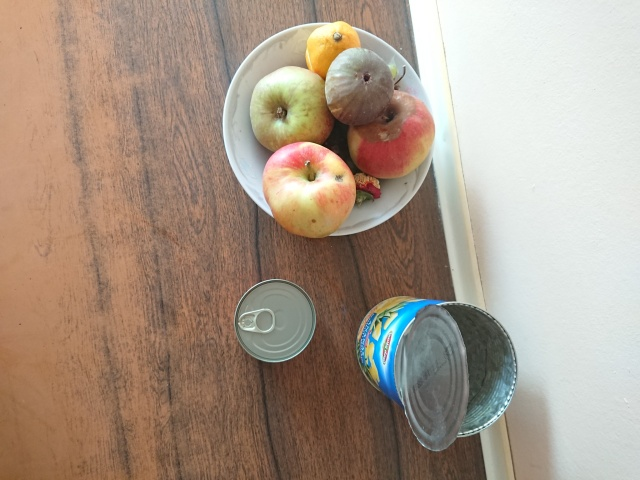Gavrilovic Pork Liver Pate 100g: (231, 276, 319, 365)
